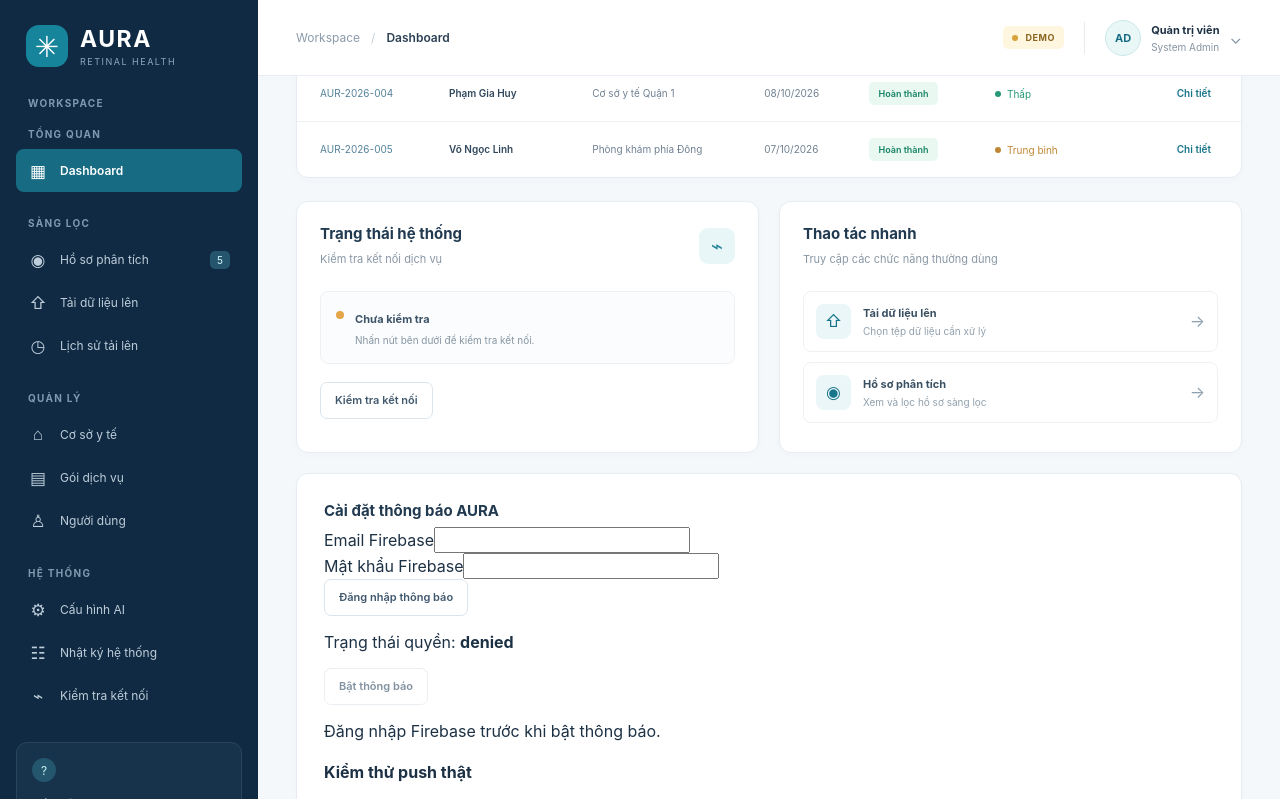
AURA connection check › displays an error when the gateway returns 502
The width and height of the screenshot is (1280, 799).
(page scrolled)
What coordinates should you click on to do the following:
click the button "Kiểm tra kết nối"
I would click on:
 (376, 400)
Its box is top-left (320, 382), bottom-right (433, 419).
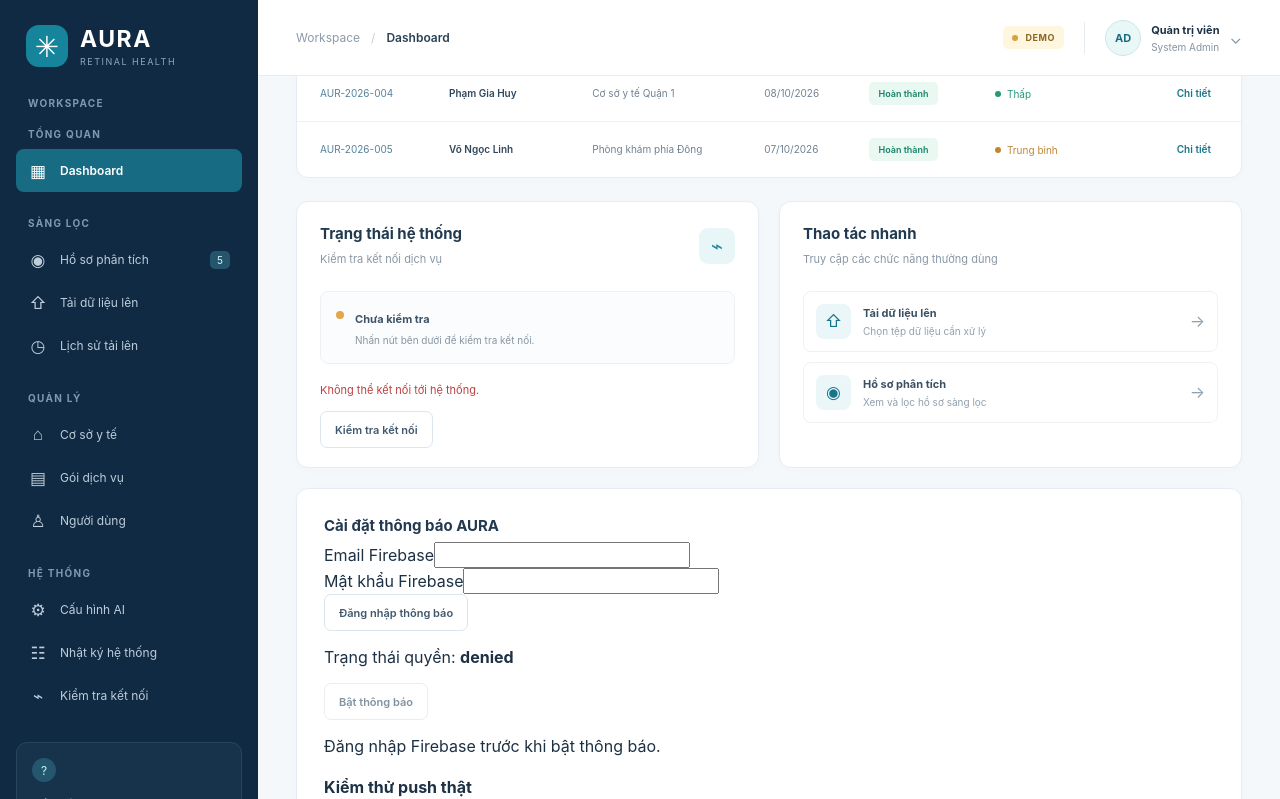
Expected: the message "Không thể kết nối tới hệ thống." is shown, top-left (320, 383), bottom-right (479, 397)
